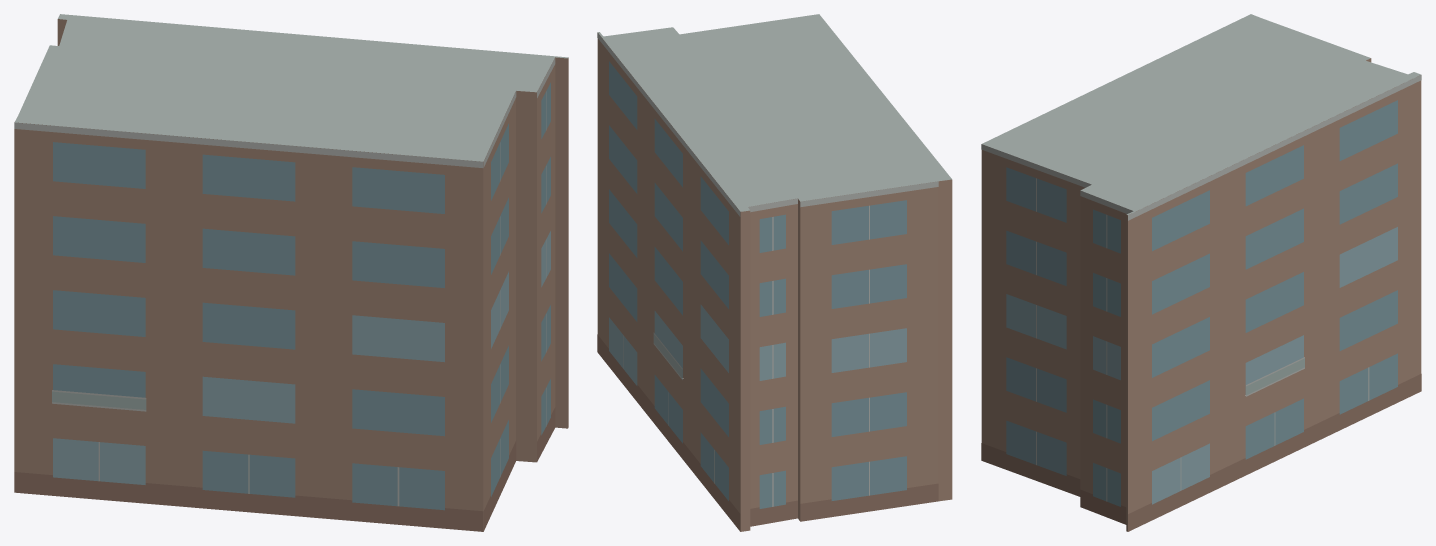
File: survey-upis-32529801.glb
3 renders of one model, left to right at view 1: azimuth 30°, elevation 25°; view 2: azimuth 150°, elevation 25°; view 3: azimuth 270°, elevation 25°, orthographic. The views are drawn at different scales.
Parts seen in each view (by area): view 1: survey-upis-32529801.tmp; view 2: survey-upis-32529801.tmp; view 3: survey-upis-32529801.tmp.
Boxes of the visible parts, x1=… form: survey-upis-32529801.tmp: x1=14, y1=14, x2=568, y2=531; survey-upis-32529801.tmp: x1=597, y1=14, x2=952, y2=531; survey-upis-32529801.tmp: x1=981, y1=14, x2=1421, y2=531.
Bounding box in the file's own units: 18.96 × 13.9 × 17.51.
